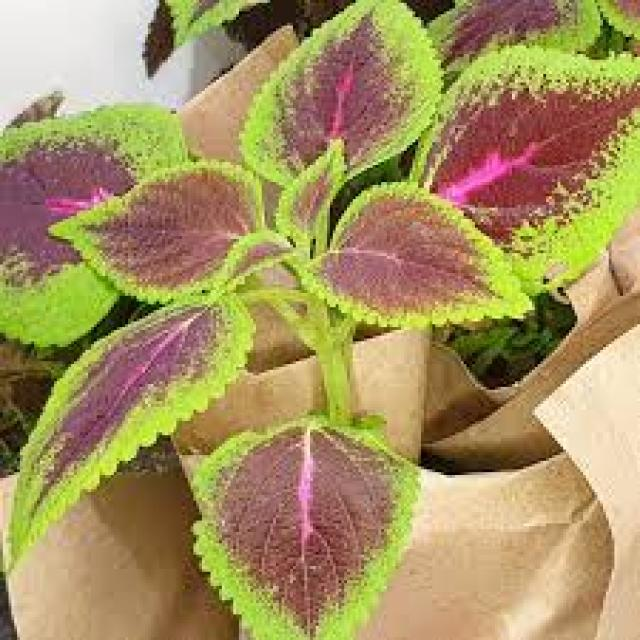Coleus: (6, 31, 603, 569)
